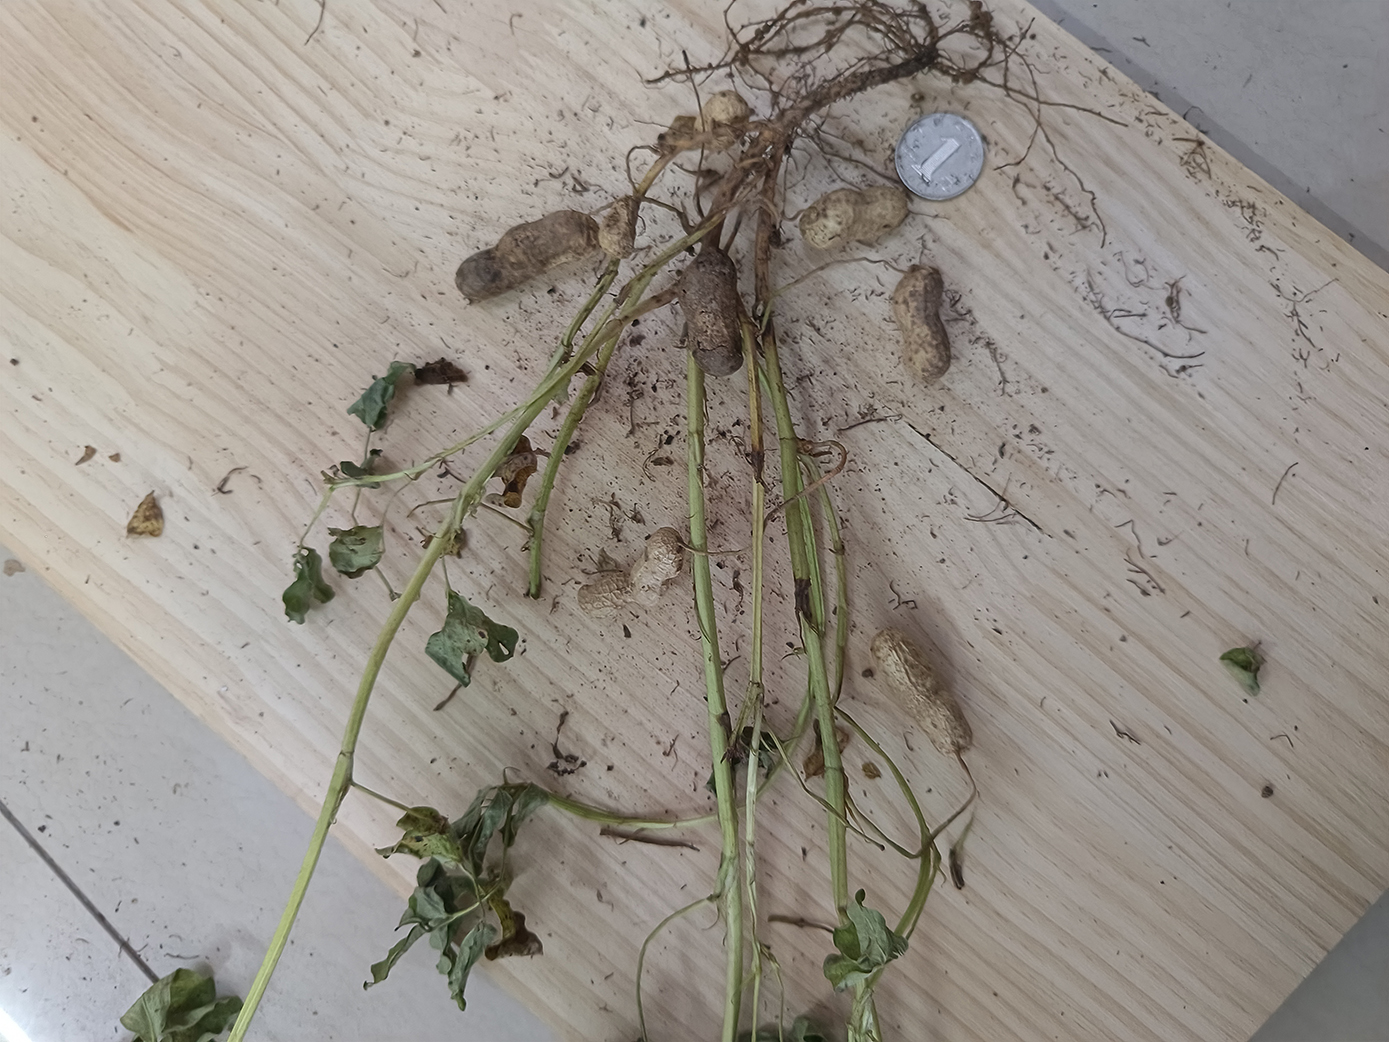h: (869, 630, 972, 756), (576, 525, 687, 618), (894, 264, 953, 387), (799, 186, 908, 251), (694, 92, 749, 154), (599, 196, 639, 257)
l: (456, 211, 601, 302), (678, 248, 745, 377)
